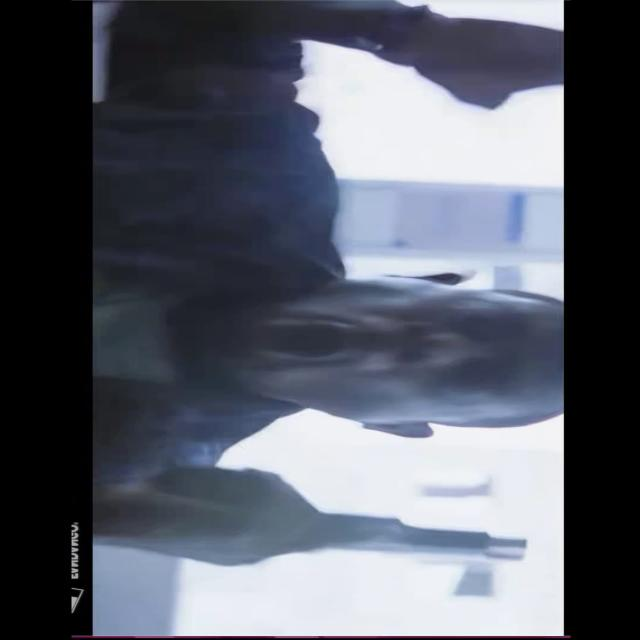weapons: (152, 455, 547, 576)
